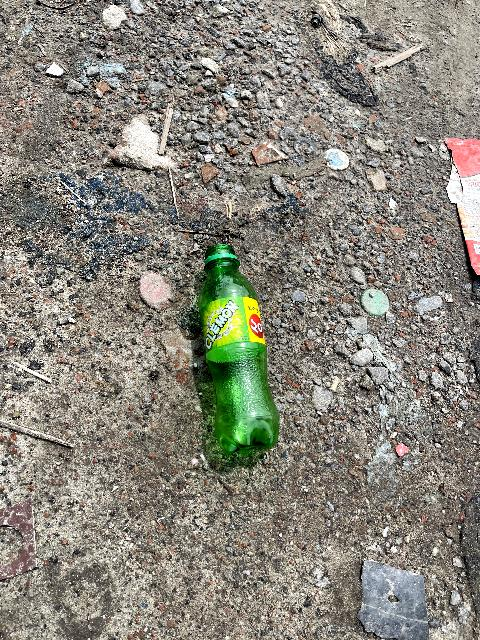bottle: (180, 230, 300, 468)
